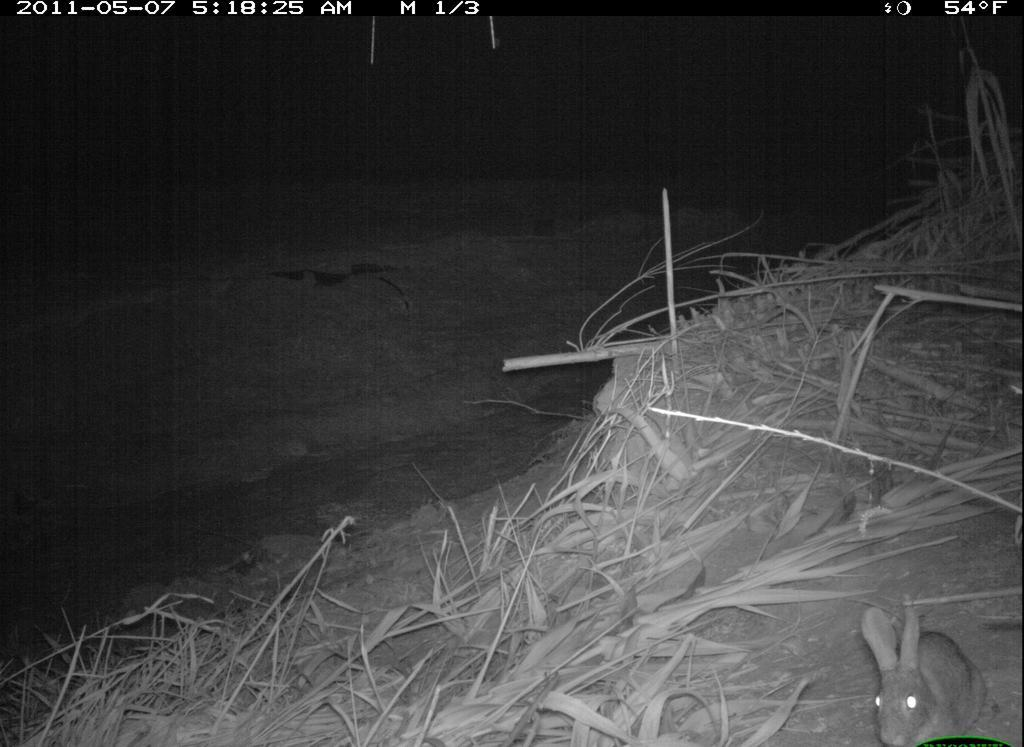rabbit: (853, 577, 998, 745)
